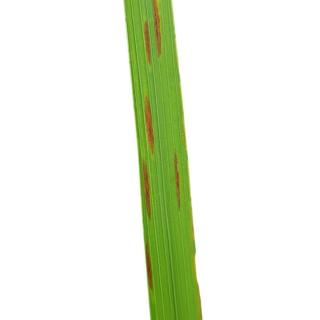Bercak-Cokelat-Sempit: (138, 87, 158, 158), (136, 153, 154, 227), (149, 0, 168, 69), (169, 148, 186, 220), (139, 236, 158, 296), (135, 16, 155, 72)
